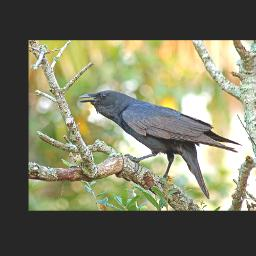Crow: (77, 90, 244, 201)
